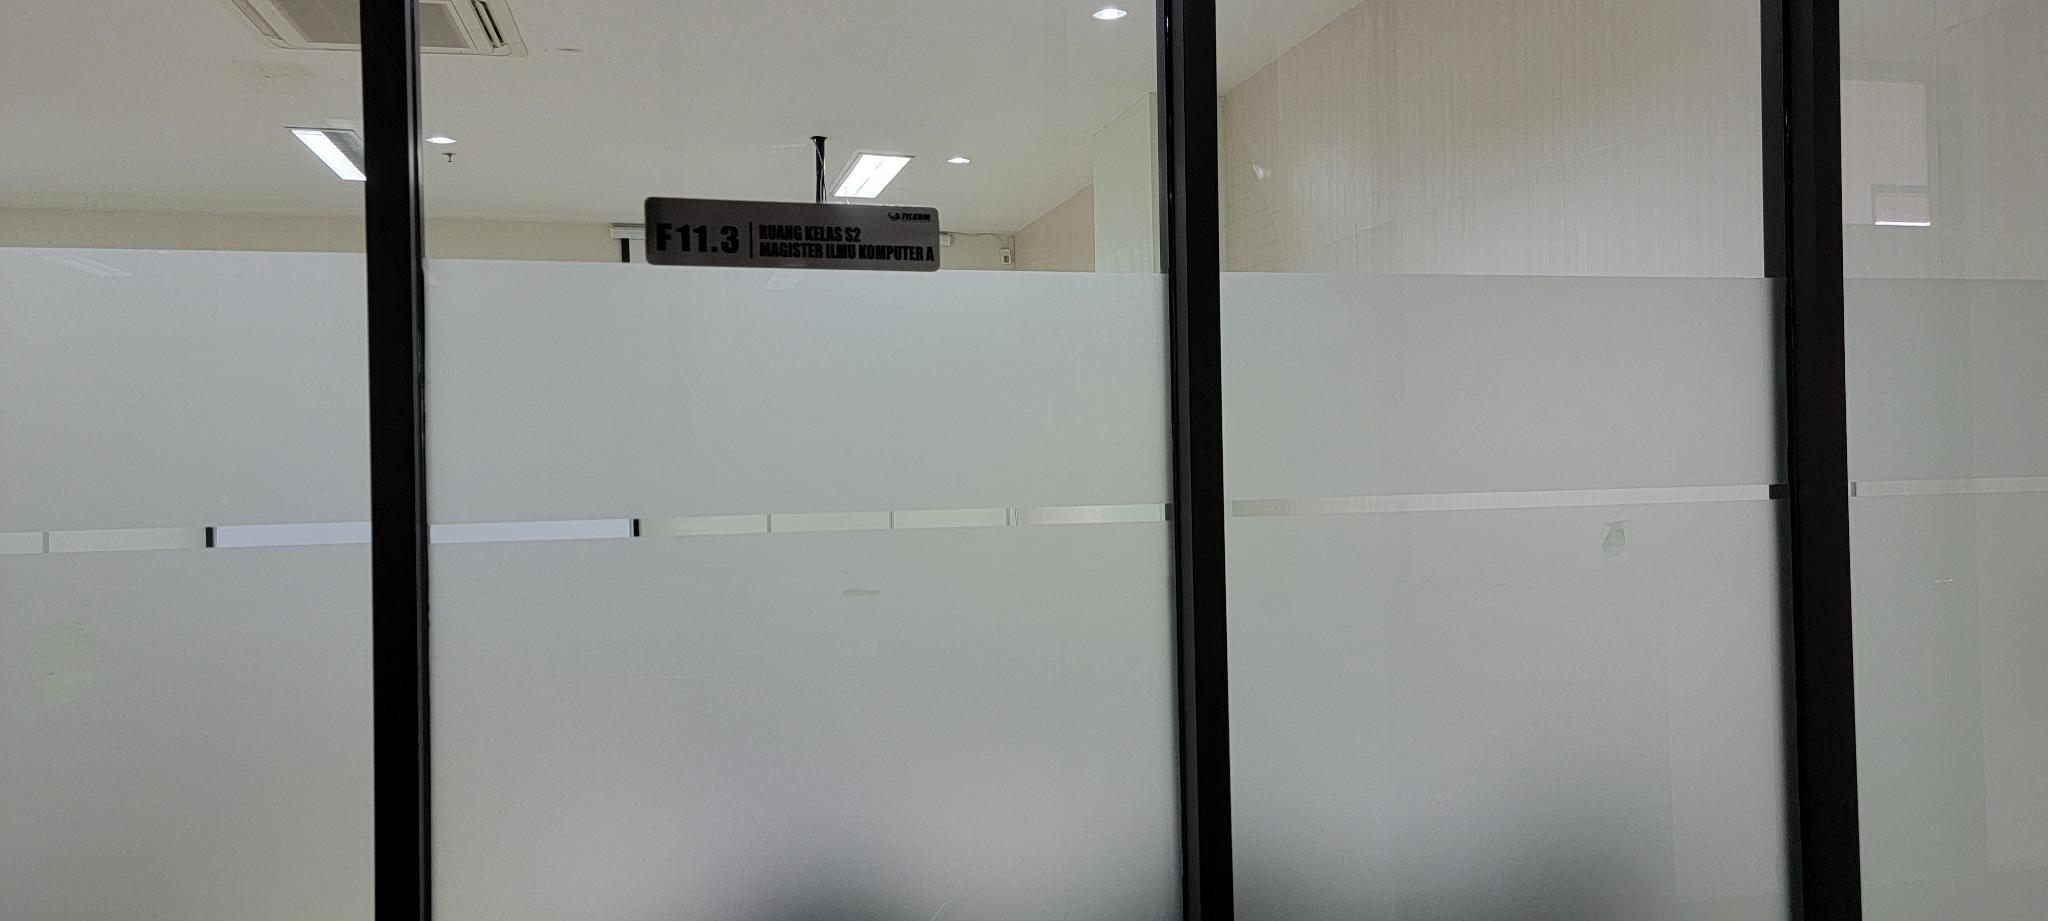plate: (645, 196, 938, 273)
